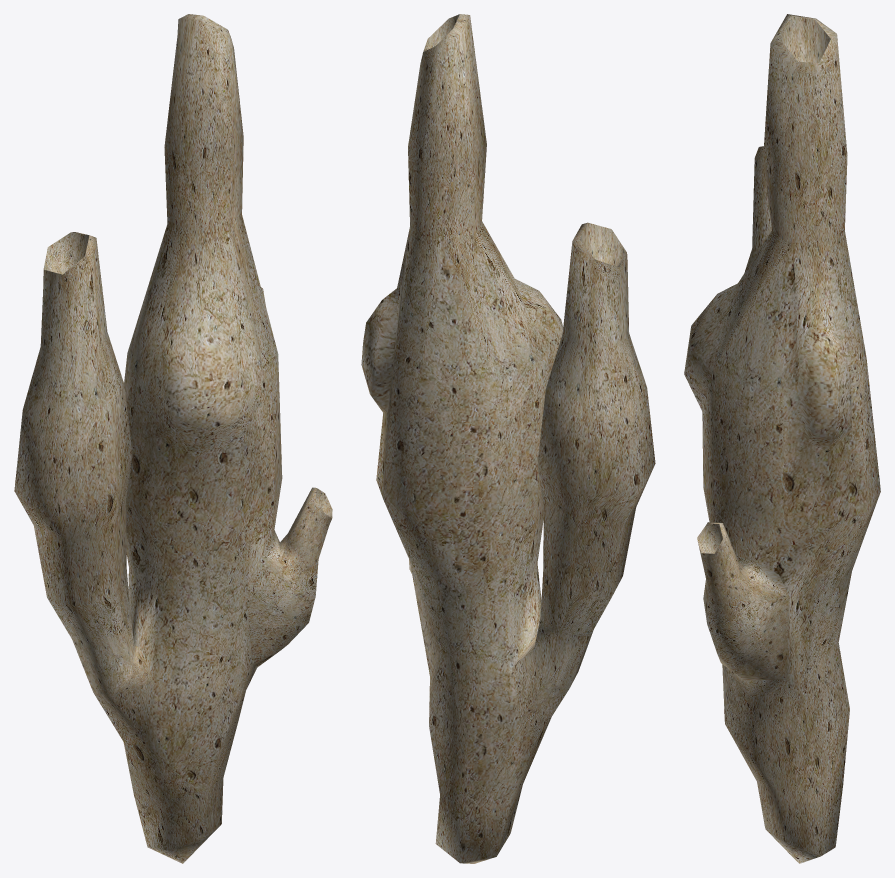
The model's file is poi_all_lair_insecthill_large_l1.fbx.
3 renders of one model, left to right at view 1: azimuth 30°, elevation 25°; view 2: azimuth 150°, elevation 25°; view 3: azimuth 270°, elevation 25°, orthographic.
Parts seen in each view (by area): view 1: mesh_node; view 2: mesh_node; view 3: mesh_node.
Part boxes in pixels (x1,y1,x2,y2): mesh_node: [14, 14, 332, 863]; mesh_node: [361, 14, 655, 863]; mesh_node: [684, 14, 880, 863].
Size of the model in its own units: 2.55 by 7.52 by 1.57.
1 material, 1 textured.
